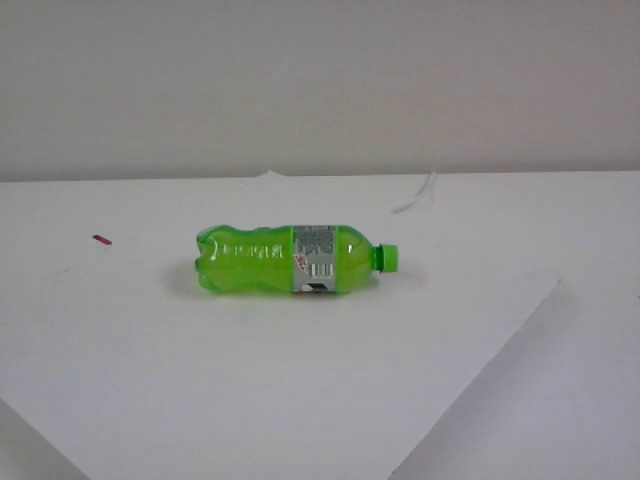botolplastik: (196, 226, 397, 293)
